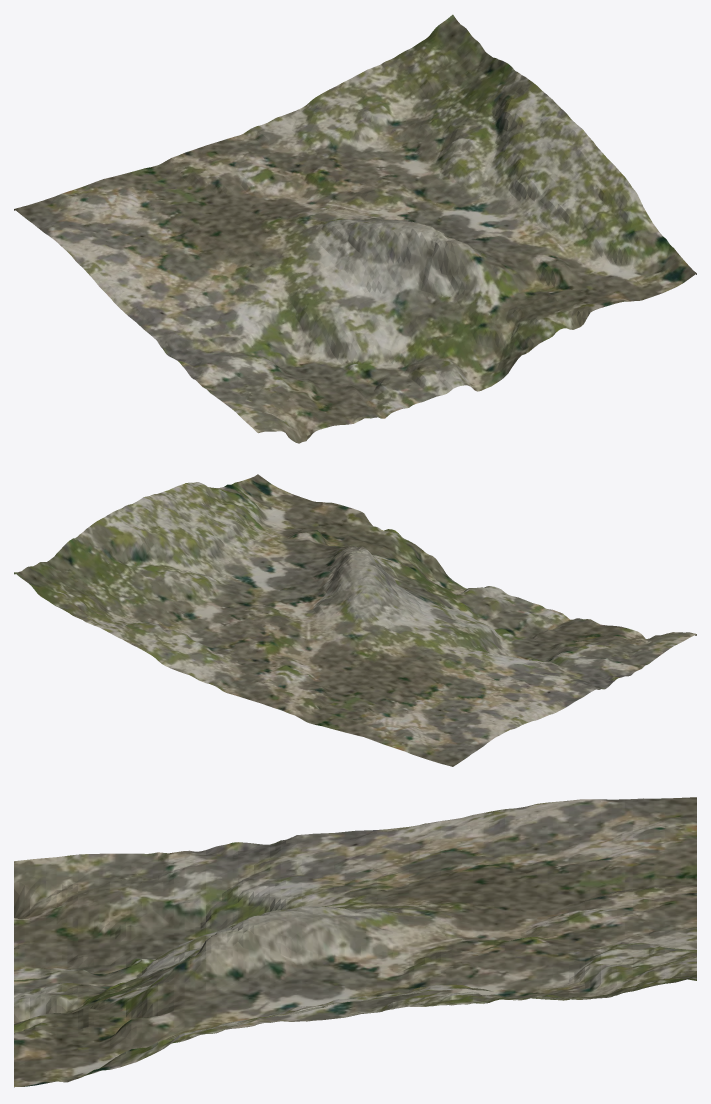
3 renders of one model, top to bottom at view 1: azimuth 30°, elevation 25°; view 2: azimuth 150°, elevation 25°; view 3: azimuth 270°, elevation 25°, orthographic. The views are drawn at different scales.
Bounding box in the file's own units: 250 × 84.65 × 241.
Materials: 1 (1 with a texture image).
